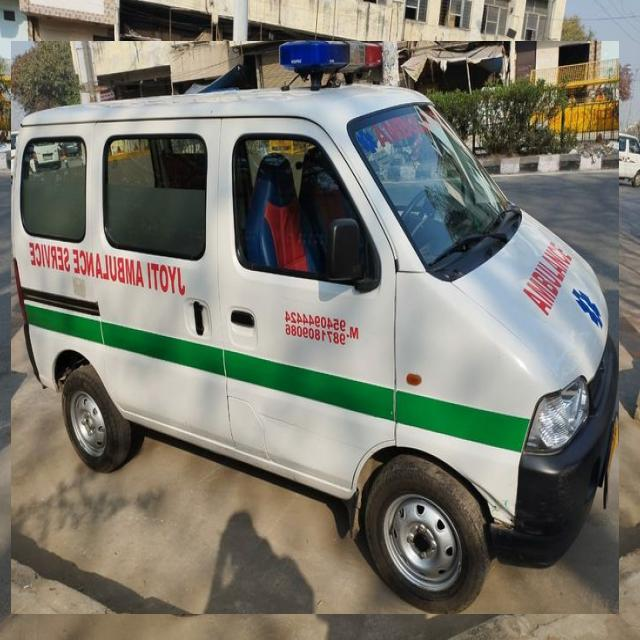emergency: (11, 41, 619, 614)
